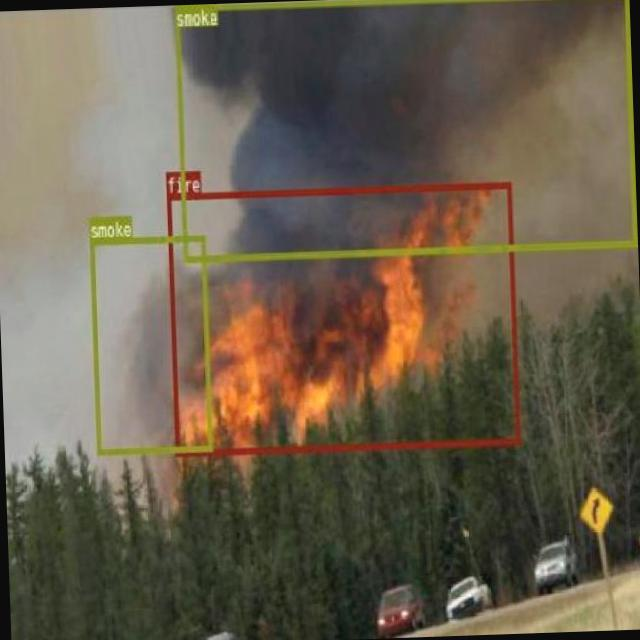fire: (166, 179, 520, 454)
smoke: (173, 0, 636, 259), (88, 234, 212, 455)
